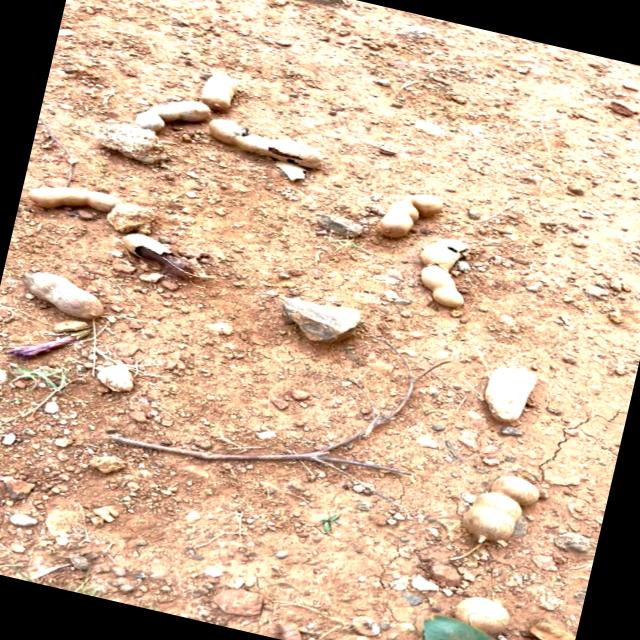tamarind: (456, 466, 546, 558), (203, 116, 327, 172), (12, 261, 112, 327), (409, 231, 476, 313), (376, 180, 450, 249), (132, 86, 215, 144), (30, 174, 126, 224), (194, 64, 251, 120)
